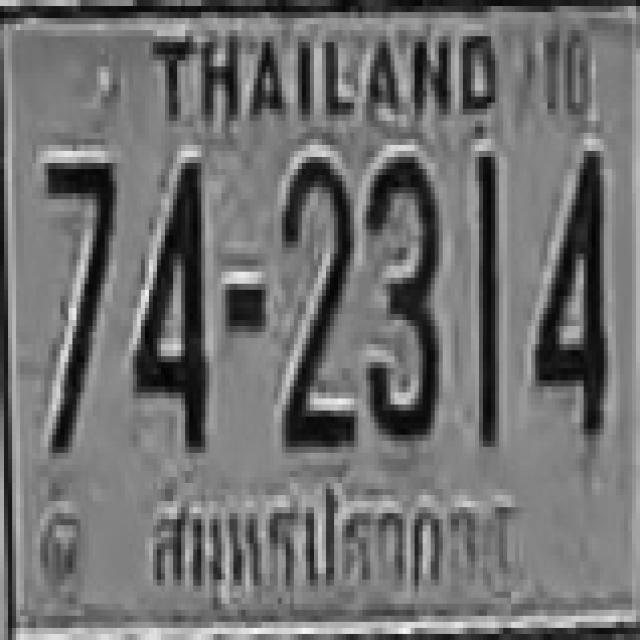1: (475, 151, 495, 441)
2: (280, 157, 352, 447)
3: (364, 151, 437, 435)
4: (129, 154, 205, 444), (531, 145, 604, 429)
7: (42, 157, 115, 447), (42, 157, 115, 350)
SamutPrakan: (140, 477, 526, 586)
